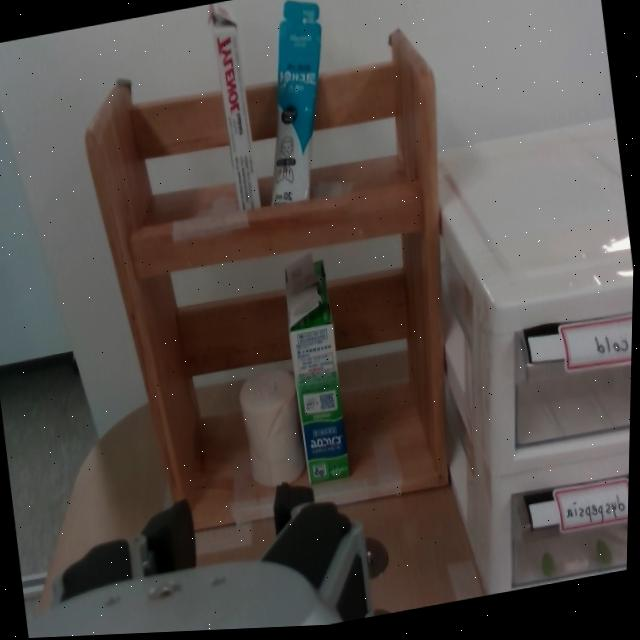bandage: (231, 369, 307, 490)
codaewon_syrup: (243, 0, 346, 210)
sore_patch: (274, 255, 356, 485)
tylenol: (205, 0, 264, 215)
